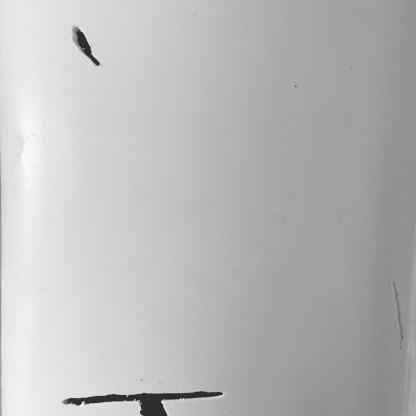fengxi: (51, 390, 232, 404)
kongdong: (54, 18, 109, 69), (136, 404, 177, 416)
sunshang: (386, 277, 411, 357)
